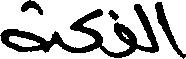X: (0, 0, 46, 57), (157, 0, 185, 58), (72, 4, 100, 57), (137, 0, 155, 57), (114, 7, 133, 58)
